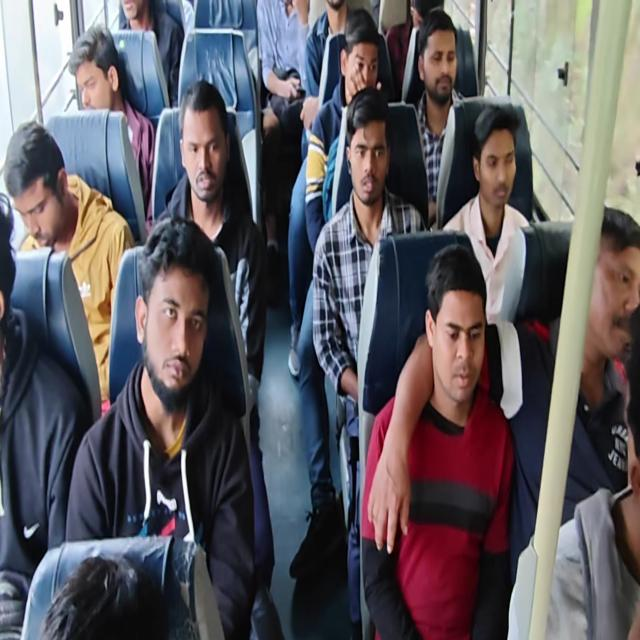person: (2, 1, 638, 638), (386, 203, 639, 586), (65, 214, 256, 638), (155, 79, 280, 636), (311, 86, 429, 636), (360, 242, 514, 638), (288, 8, 384, 578), (0, 192, 91, 638), (3, 120, 135, 416), (544, 335, 639, 639), (441, 104, 531, 324), (304, 9, 382, 252), (68, 23, 155, 223), (256, 0, 311, 260), (410, 7, 469, 227), (39, 553, 169, 639), (300, 0, 349, 160), (118, 0, 184, 106), (385, 0, 444, 99)
